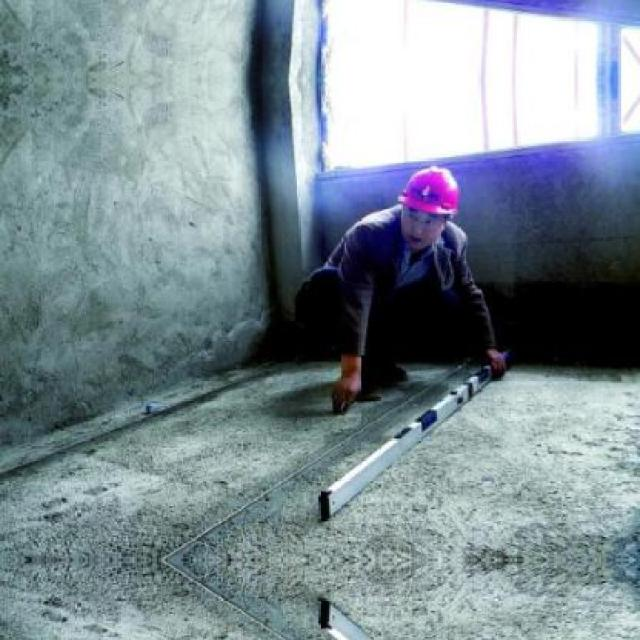helmet: (394, 164, 461, 245)
